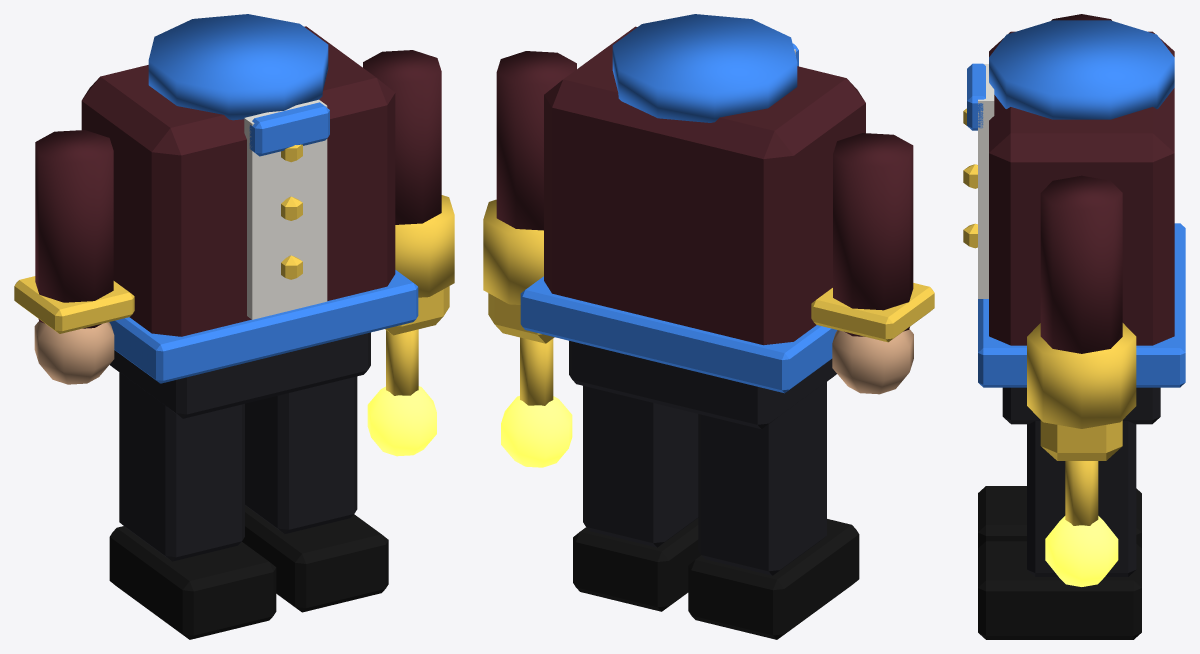
File: tordeux.glb
3 renders of one model, left to right at view 1: azimuth 30°, elevation 25°; view 2: azimuth 150°, elevation 25°; view 3: azimuth 270°, elevation 25°, orthographic. The views are drawn at different scales.
Visible parts, largest first — view 1: torso, thigh_L, collar, thigh_R, belt, upperarm_L, shirt, shoe_L, shoe_R, hips, upperarm_R, glove (+6 smaller); view 2: torso, thigh_L, collar, thigh_R, belt, upperarm_L, shoe_L, hips, upperarm_R, shoe_R, glove, hand_L (+4 smaller); view 3: torso, collar, upperarm_R, shoe_R, glove, thigh_R, belt, fingertip, shoe_L, fist, shirt, finger (+2 smaller).
Part boxes in pixels (<box>): torso: <box>81,26,395,336</box>; thigh_L: <box>119,372,244,561</box>; collar: <box>148,14,328,120</box>; thigh_R: <box>245,376,357,533</box>; belt: <box>109,270,418,383</box>; upperarm_L: <box>35,130,113,328</box>; shirt: <box>244,99,327,319</box>; shoe_L: <box>109,526,276,639</box>; shoe_R: <box>242,505,388,612</box>; hips: <box>109,332,370,418</box>; upperarm_R: <box>363,50,441,224</box>; glove: <box>395,195,454,297</box>; torso: <box>544,26,865,345</box>; thigh_L: <box>698,381,826,575</box>; collar: <box>612,14,797,122</box>; thigh_R: <box>583,386,698,547</box>; belt: <box>520,276,836,393</box>; upperarm_L: <box>833,133,913,336</box>; shoe_L: <box>688,519,859,639</box>; hips: <box>569,341,836,429</box>; upperarm_R: <box>496,51,576,230</box>; shoe_R: <box>573,518,701,611</box>; glove: <box>483,199,543,304</box>; hand_L: <box>832,329,913,394</box>; torso: <box>989,31,1174,345</box>; collar: <box>989,20,1174,119</box>; upperarm_R: <box>1040,175,1122,353</box>; shoe_R: <box>978,541,1141,639</box>; glove: <box>1027,323,1136,428</box>; thigh_R: <box>1027,421,1136,576</box>; belt: <box>978,223,1185,387</box>; fingertip: <box>1045,516,1118,586</box>; shoe_L: <box>978,486,1141,548</box>; fist: <box>1040,420,1122,460</box>; shirt: <box>978,64,994,298</box>; finger: <box>1065,461,1098,525</box>.
Bounding box in the file's own units: 0.885 × 1.08 × 0.4067.
